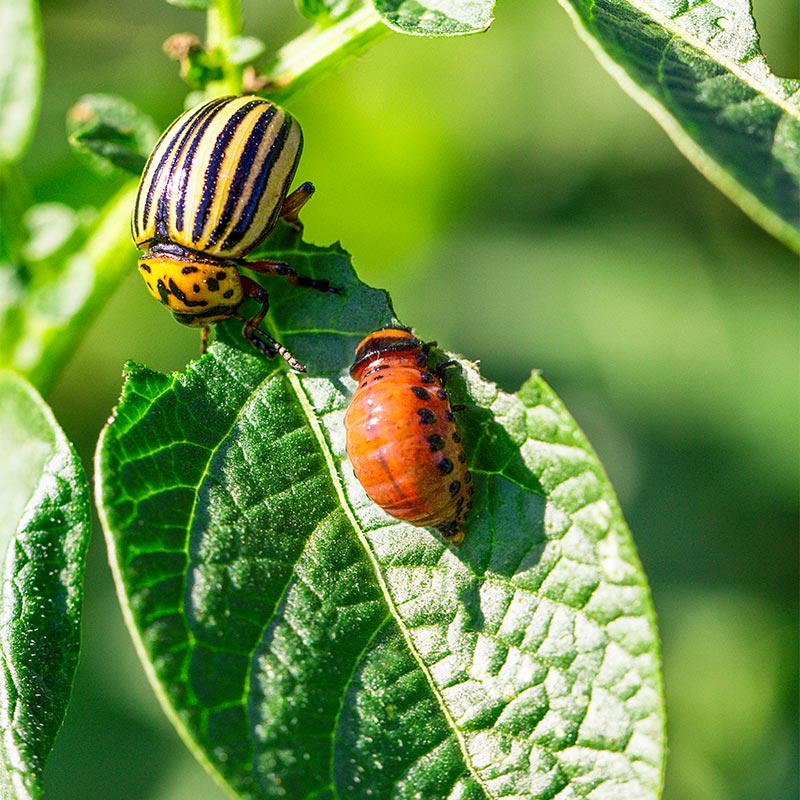hrosc: (118, 92, 311, 327)
